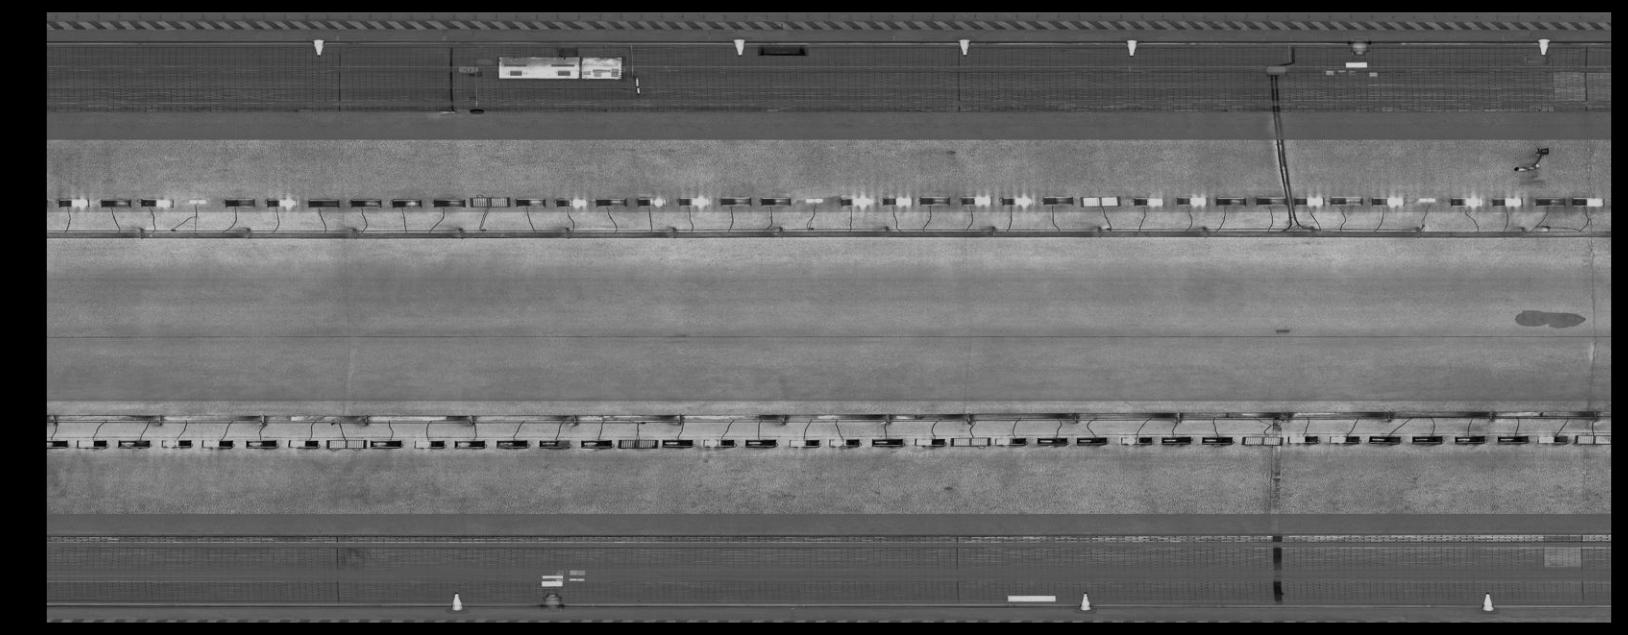light: (1238, 431, 1286, 448), (1076, 192, 1123, 210), (614, 435, 662, 450), (324, 435, 369, 451), (836, 191, 875, 210), (1571, 430, 1610, 448), (467, 193, 511, 210), (1131, 192, 1170, 210), (948, 434, 993, 449), (1173, 192, 1211, 210), (997, 191, 1034, 209), (283, 435, 323, 451), (1288, 191, 1327, 208), (535, 436, 573, 452), (429, 194, 469, 210), (386, 194, 427, 210), (70, 436, 110, 451), (493, 435, 531, 451), (411, 435, 449, 451), (345, 194, 384, 210), (908, 433, 948, 448), (1447, 194, 1486, 210), (263, 194, 301, 210), (221, 194, 260, 210), (868, 434, 906, 449), (367, 436, 405, 451), (198, 435, 237, 450), (114, 436, 153, 451), (1327, 192, 1367, 206), (136, 194, 177, 209), (1156, 433, 1196, 447), (699, 435, 739, 449), (56, 194, 91, 211), (916, 192, 953, 208), (878, 193, 916, 209), (304, 194, 342, 210), (825, 434, 863, 449), (1534, 431, 1573, 445), (243, 436, 279, 451), (1367, 193, 1406, 208), (1197, 433, 1236, 447), (1116, 433, 1155, 447), (1071, 433, 1110, 447), (1039, 192, 1075, 208), (553, 194, 589, 210), (1493, 432, 1534, 445), (1407, 432, 1447, 445), (512, 194, 549, 209), (96, 195, 133, 210), (1325, 432, 1362, 446), (158, 436, 195, 450), (453, 436, 487, 451), (1568, 194, 1607, 208), (785, 436, 824, 449), (675, 194, 711, 209), (1366, 432, 1403, 446), (1488, 194, 1526, 208), (1250, 194, 1288, 208), (1532, 194, 1570, 208), (1212, 194, 1249, 208), (757, 194, 794, 208), (592, 194, 629, 208), (1033, 434, 1070, 447), (741, 436, 779, 449), (658, 436, 696, 449), (958, 193, 993, 208), (575, 437, 615, 449), (717, 194, 754, 208), (1451, 432, 1488, 445), (992, 434, 1028, 447), (1285, 432, 1321, 445), (634, 194, 669, 208), (46, 435, 69, 448), (184, 195, 210, 206), (802, 195, 826, 204), (1415, 194, 1441, 201)
